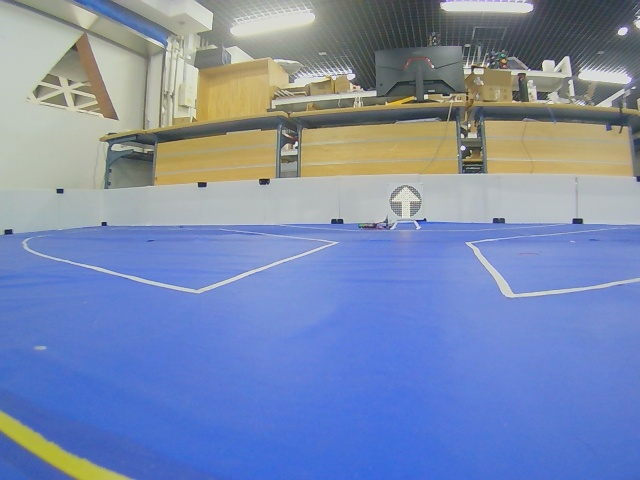straight_yellow: (390, 185, 422, 218)
